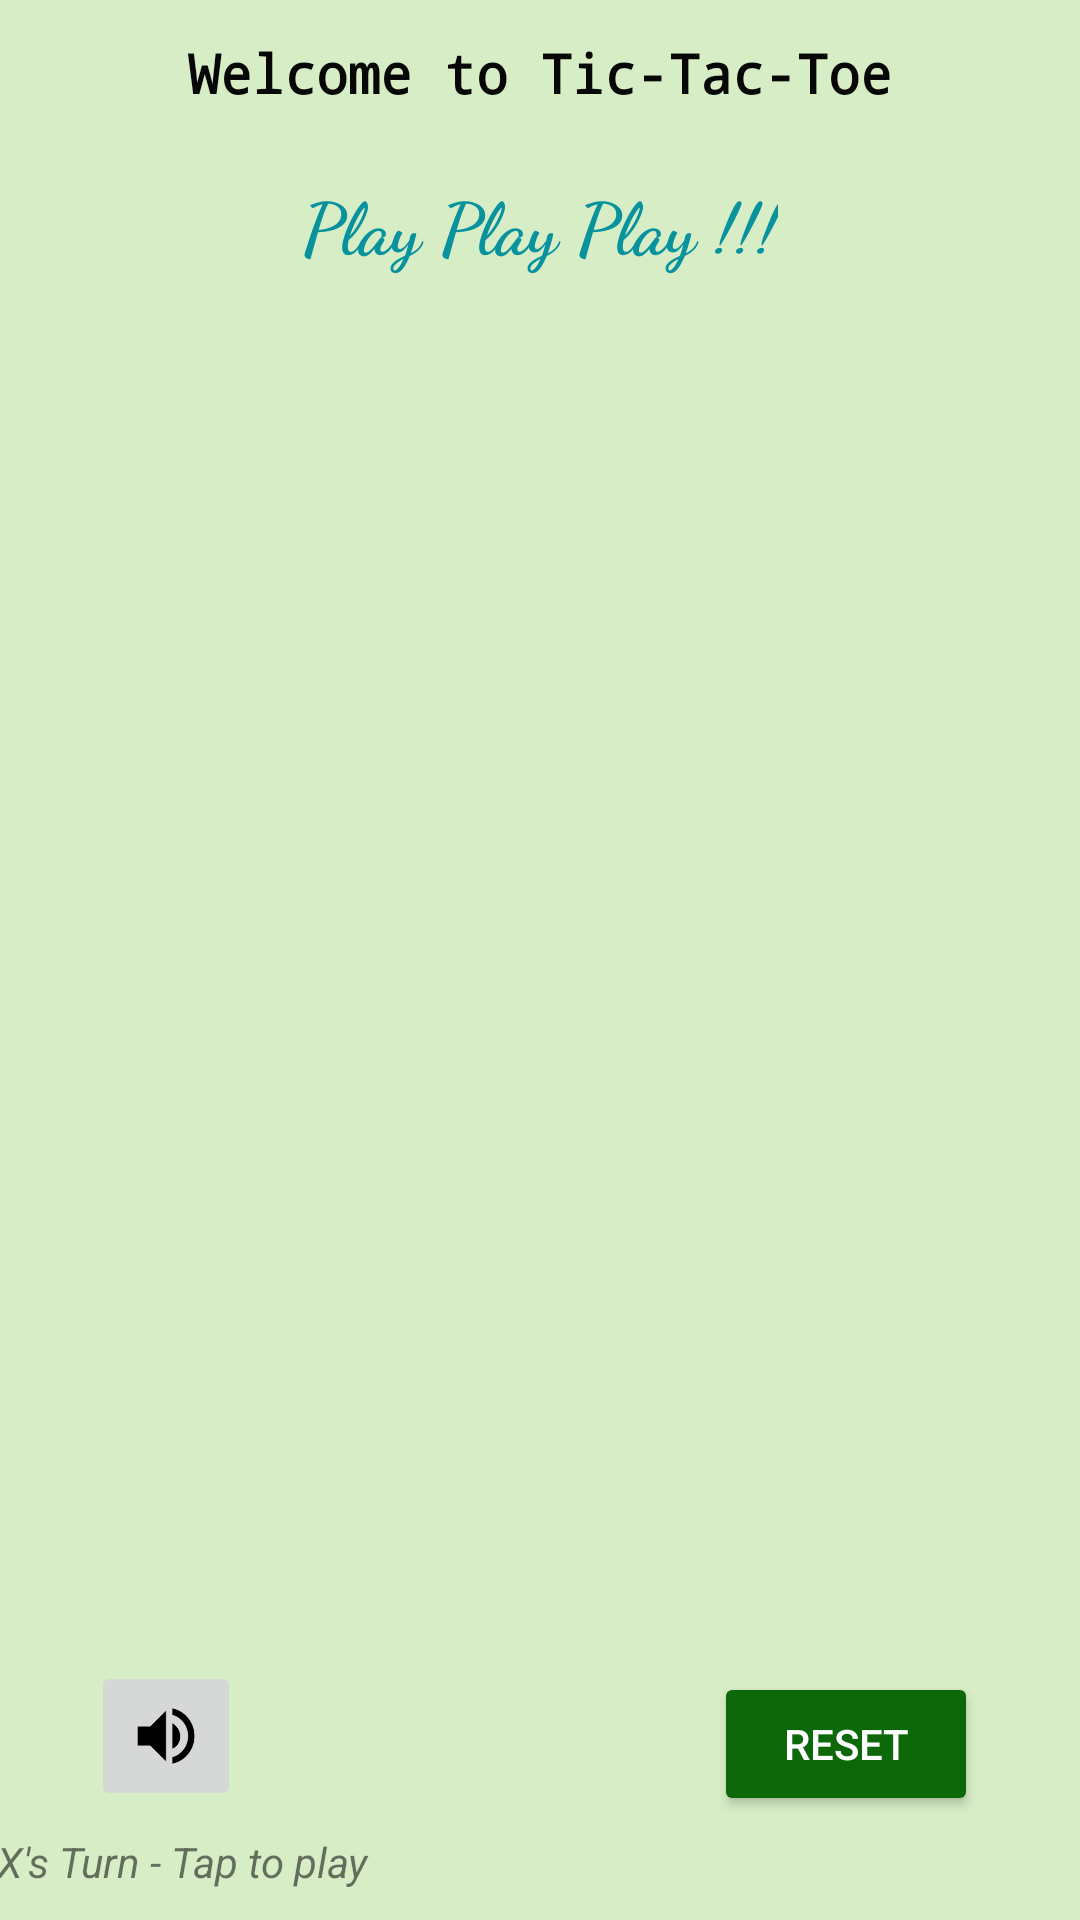

Screen size 1080px x 1920px. Icon name, then its box in pixels as [left=x1, top=y1, right=x2, bottom=y2]:
sound on: [left=103, top=1679, right=229, bottom=1793]
